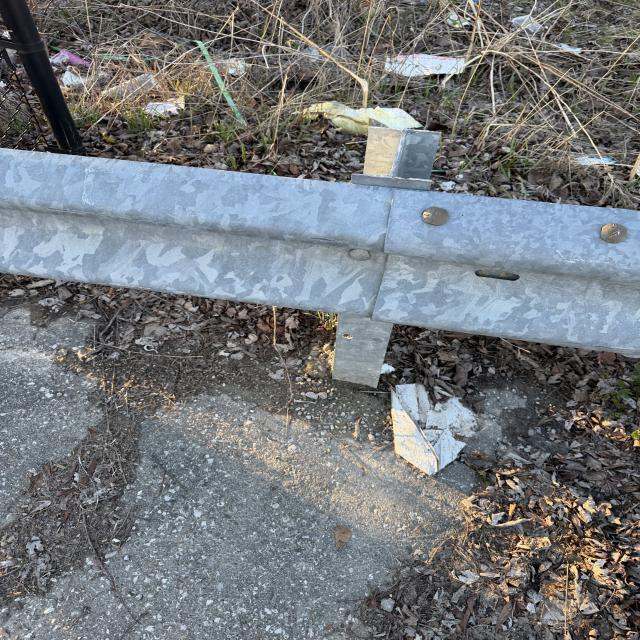Guard rail: (15, 155, 618, 330)
